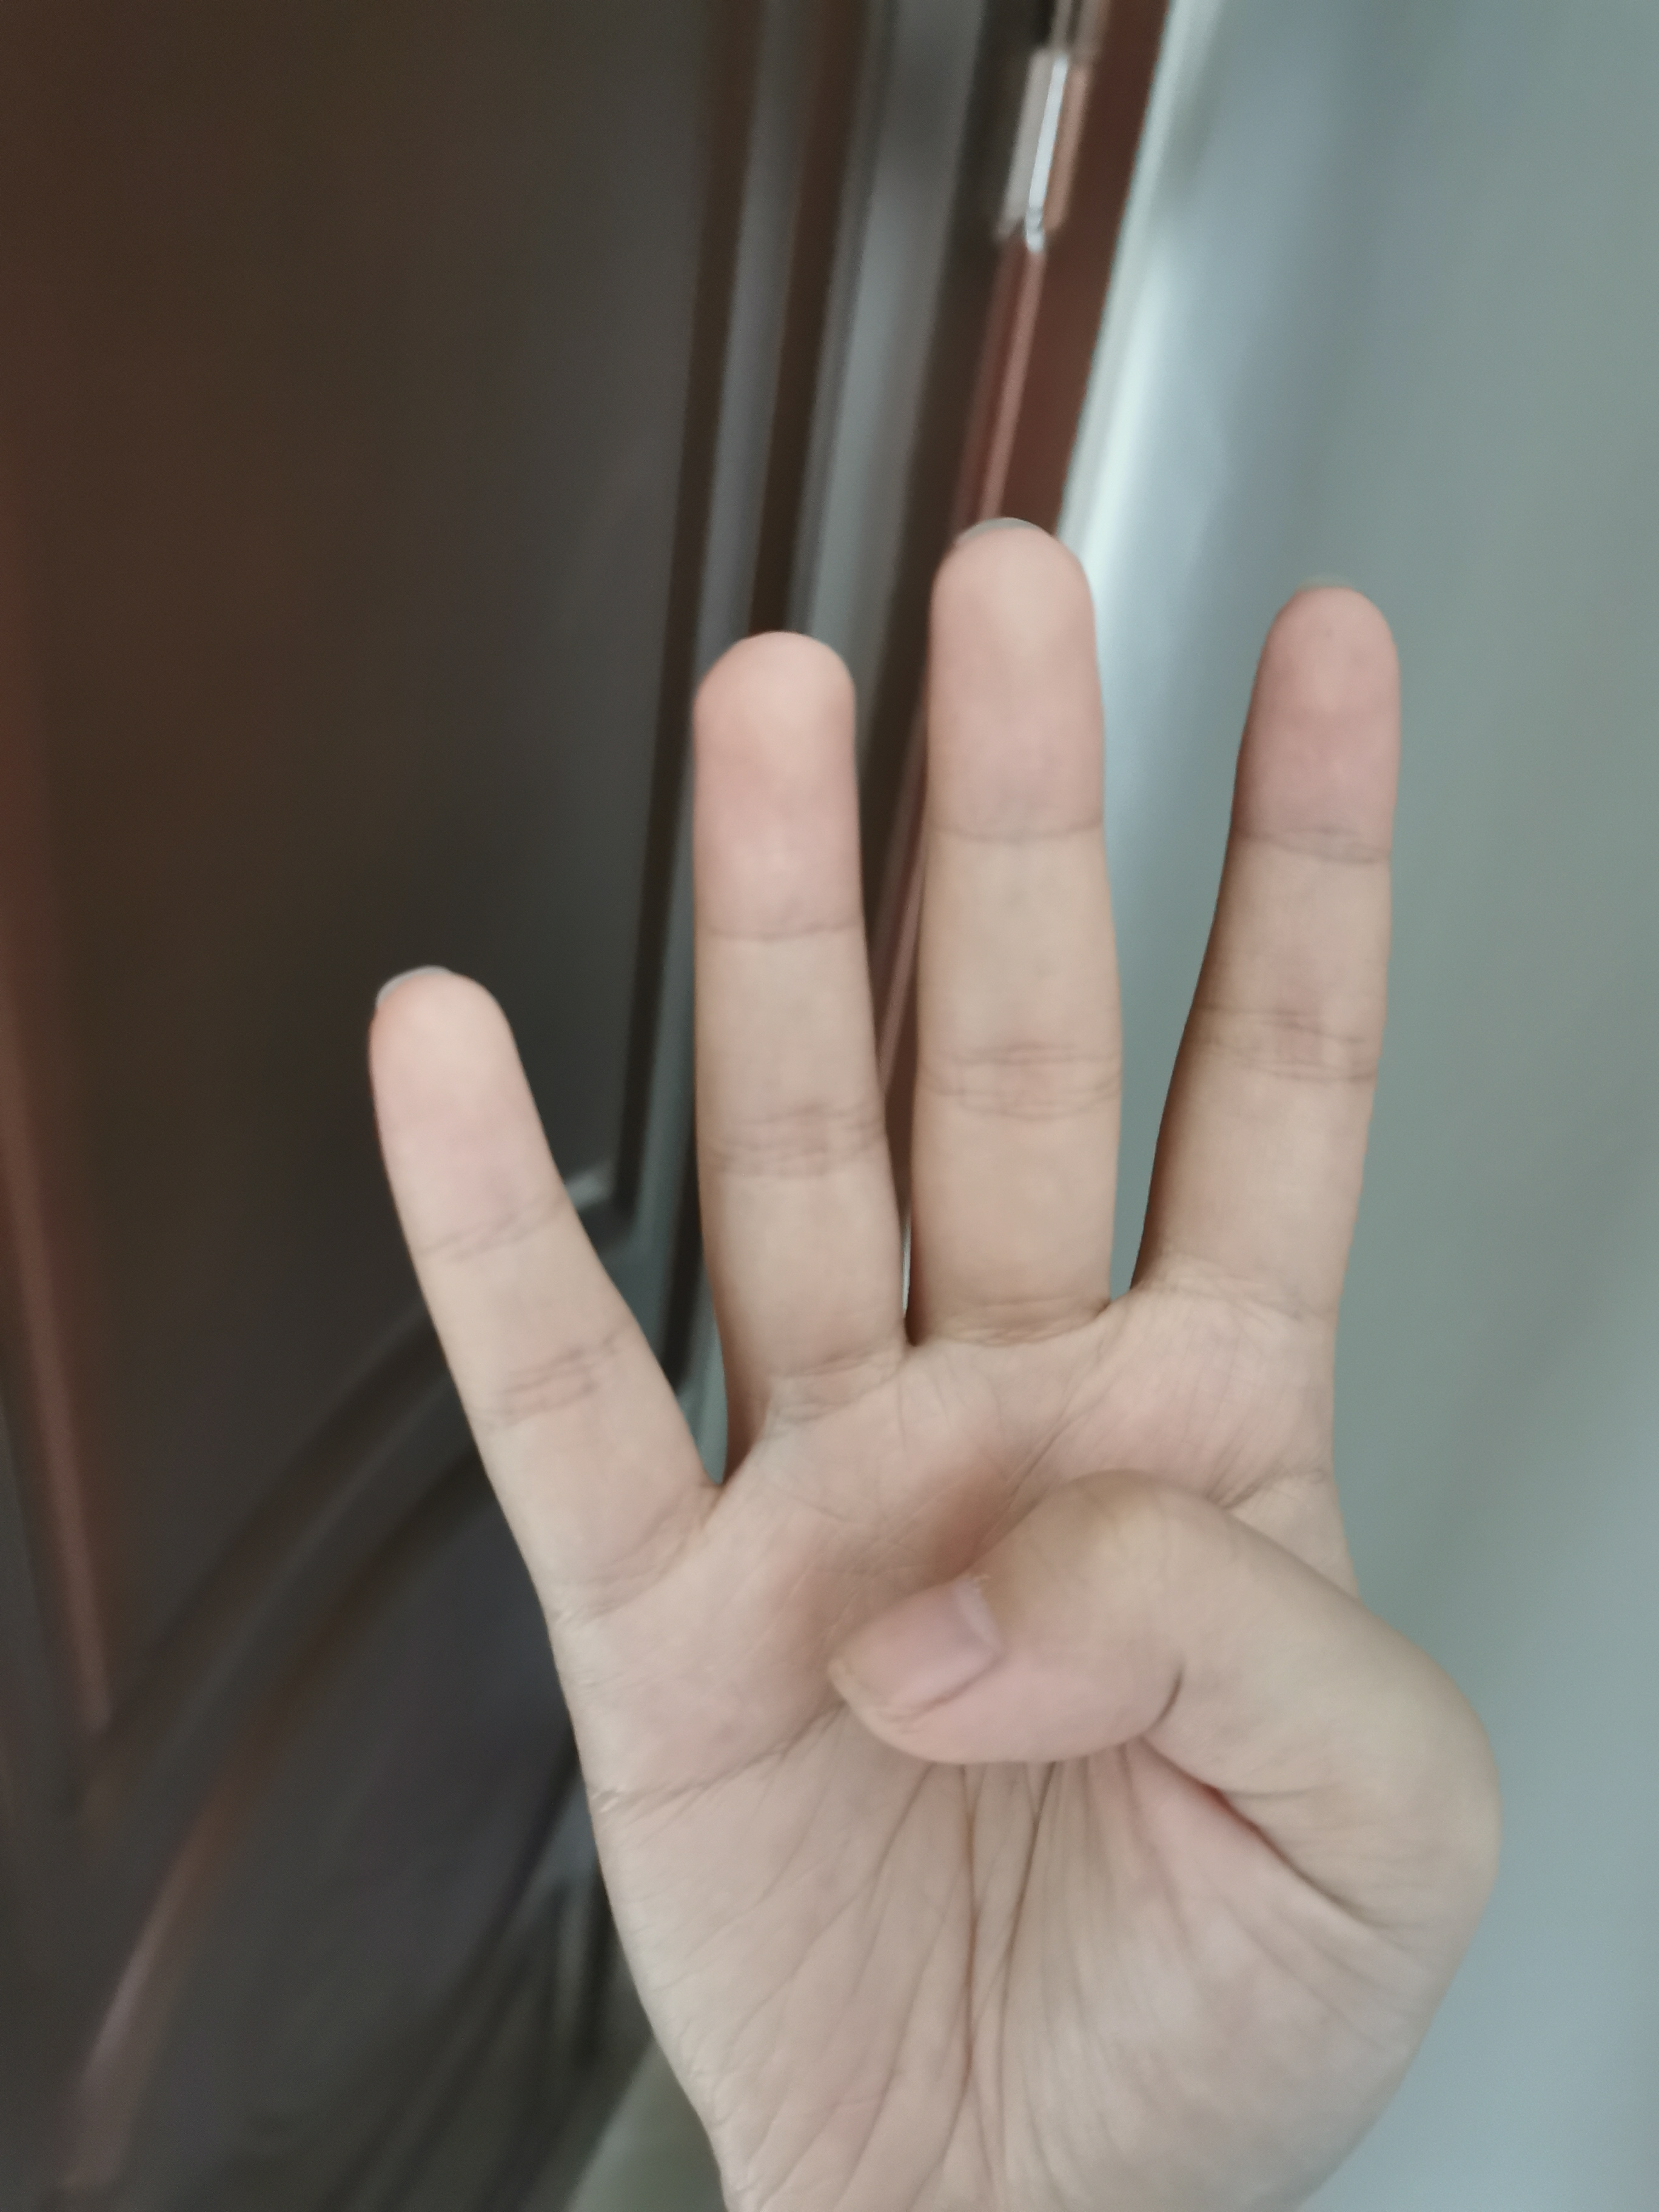right: (350, 507, 1532, 2144)
